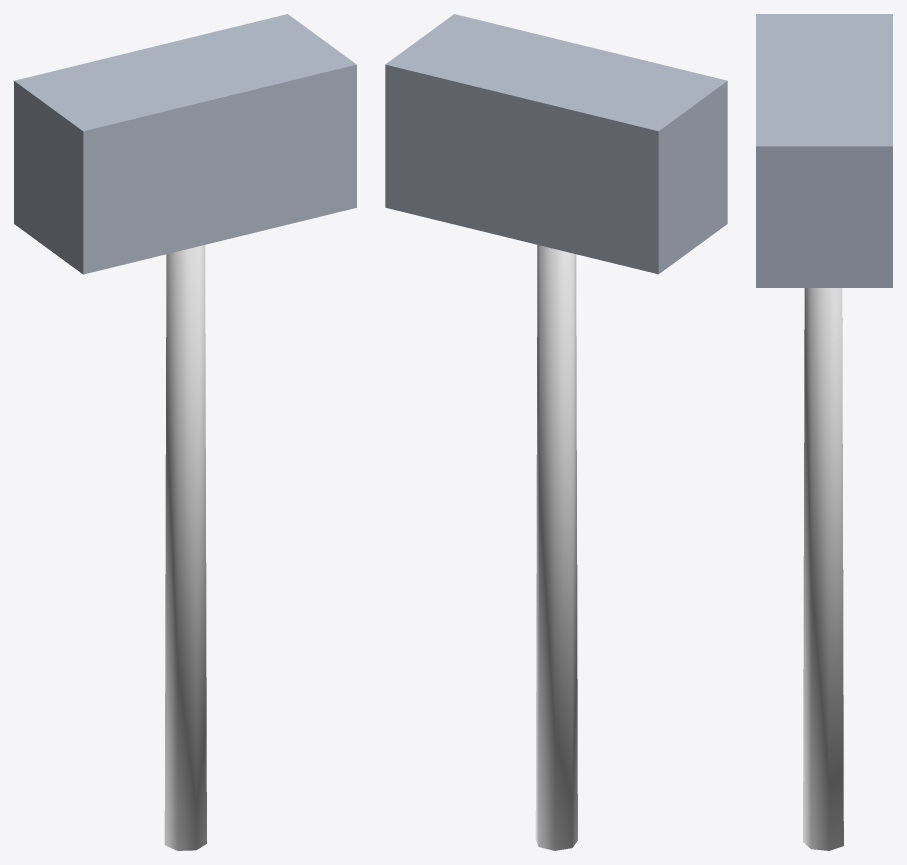
The model's file is stellite_hammer.glb.
3 renders of one model, left to right at view 1: azimuth 30°, elevation 25°; view 2: azimuth 150°, elevation 25°; view 3: azimuth 270°, elevation 25°, orthographic.
Parts seen in each view (by area): view 1: stellite_hammer_v0; view 2: stellite_hammer_v0; view 3: stellite_hammer_v0.
Boxes of the visible parts, box(x1,y1,x2,y2) form: stellite_hammer_v0: box(14, 14, 356, 850); stellite_hammer_v0: box(385, 14, 727, 850); stellite_hammer_v0: box(756, 14, 892, 850).
Size of the model in its own units: 0.32 by 0.86 by 0.14.
